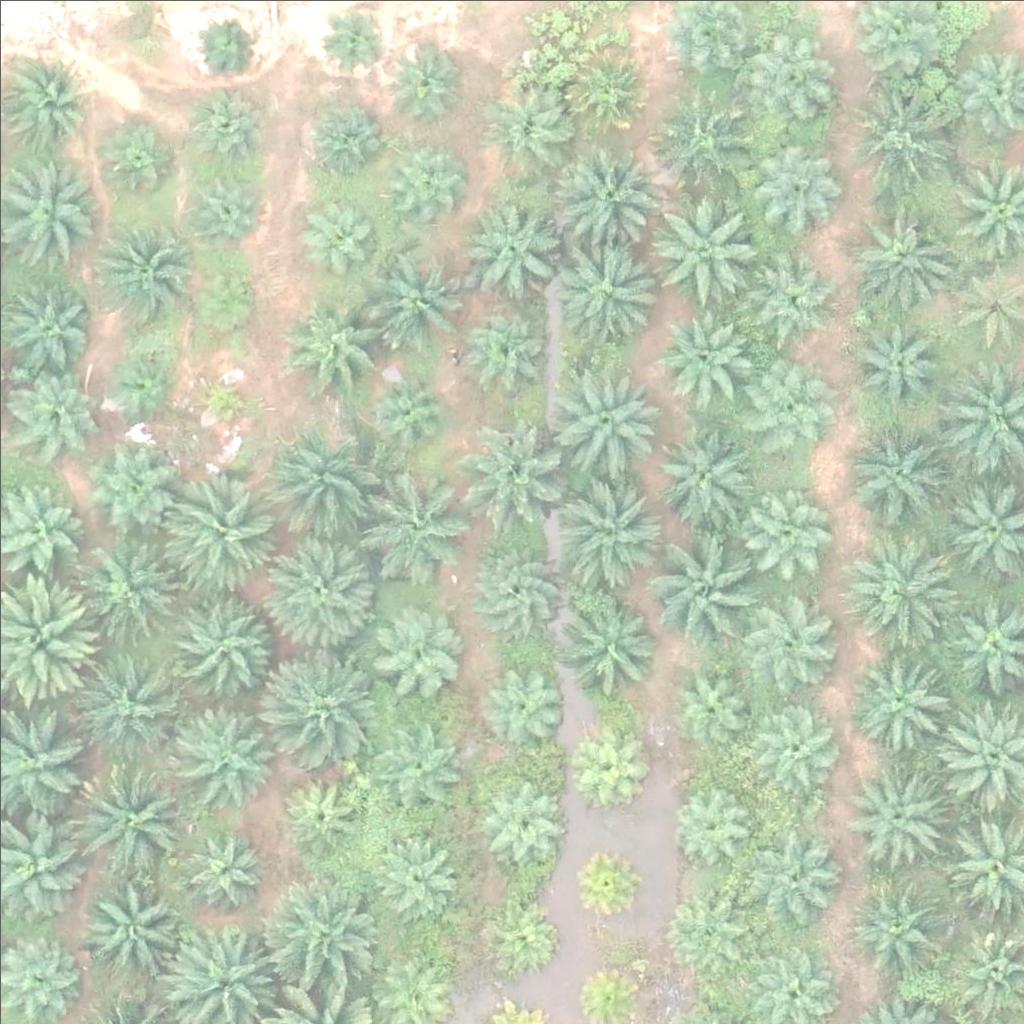Kelapa_Sawit: (554, 365, 667, 479), (76, 761, 189, 874), (72, 649, 185, 762), (165, 594, 278, 707), (268, 533, 381, 646), (549, 139, 662, 252), (557, 235, 670, 348), (845, 636, 958, 749), (844, 527, 957, 640), (261, 876, 374, 989), (269, 430, 381, 544), (552, 469, 664, 583), (650, 192, 762, 306), (173, 693, 285, 806), (168, 476, 280, 589), (271, 642, 383, 755), (458, 425, 570, 538), (654, 531, 766, 644), (850, 70, 962, 183), (81, 540, 181, 641), (79, 439, 179, 540), (287, 291, 387, 392), (373, 242, 473, 343), (373, 470, 473, 571), (463, 194, 563, 295), (560, 594, 660, 695), (657, 426, 757, 527), (655, 89, 755, 190), (736, 589, 836, 690), (847, 769, 947, 870), (853, 196, 953, 297), (78, 876, 178, 977), (847, 877, 947, 978), (740, 825, 840, 926), (88, 225, 188, 326), (366, 605, 466, 705), (468, 537, 568, 637), (847, 421, 946, 522), (11, 365, 99, 453), (186, 82, 274, 170), (567, 44, 655, 132), (278, 768, 366, 856), (364, 366, 452, 454), (483, 775, 571, 863), (657, 306, 745, 394), (755, 138, 843, 226), (757, 703, 845, 791), (661, 877, 749, 965), (178, 823, 266, 911), (9, 277, 96, 366), (379, 717, 466, 806), (745, 30, 832, 119), (177, 163, 264, 251), (482, 659, 569, 747), (460, 297, 547, 385), (483, 77, 570, 165), (666, 779, 753, 867), (669, 655, 756, 743), (755, 260, 842, 348), (746, 372, 833, 460), (743, 487, 830, 575), (852, 321, 939, 409), (372, 835, 459, 923), (489, 901, 564, 977), (306, 192, 381, 268), (304, 104, 379, 180), (105, 344, 180, 420), (186, 257, 261, 333), (572, 721, 647, 797), (567, 848, 642, 924), (98, 123, 173, 198), (386, 138, 461, 213), (388, 38, 463, 113), (327, 9, 390, 72), (195, 13, 257, 76), (192, 369, 254, 432)
